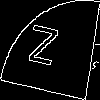Z: (25, 24, 59, 76)
